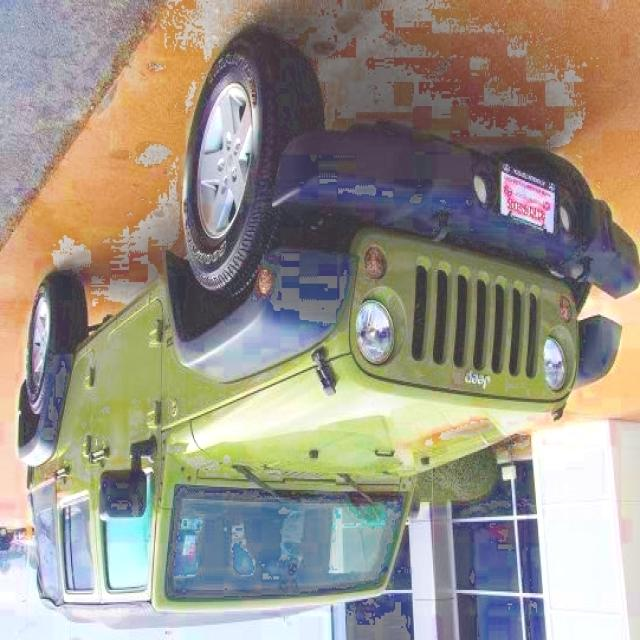green: (17, 32, 640, 630)
